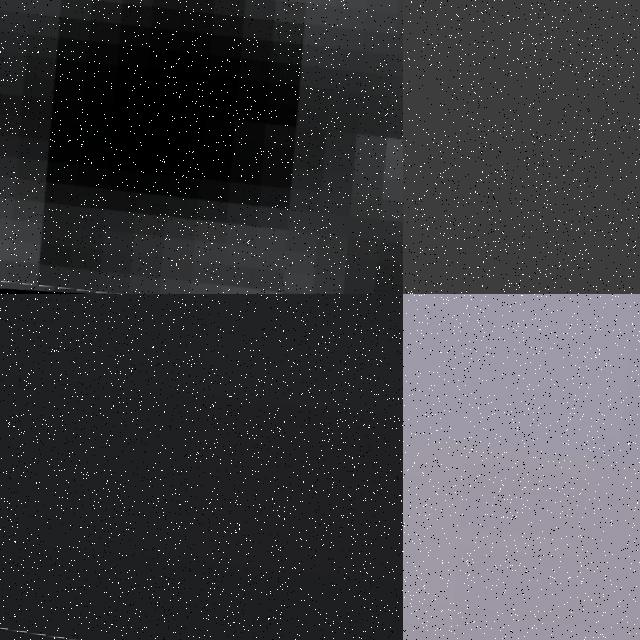drone: (0, 0, 403, 294), (403, 294, 640, 640)
